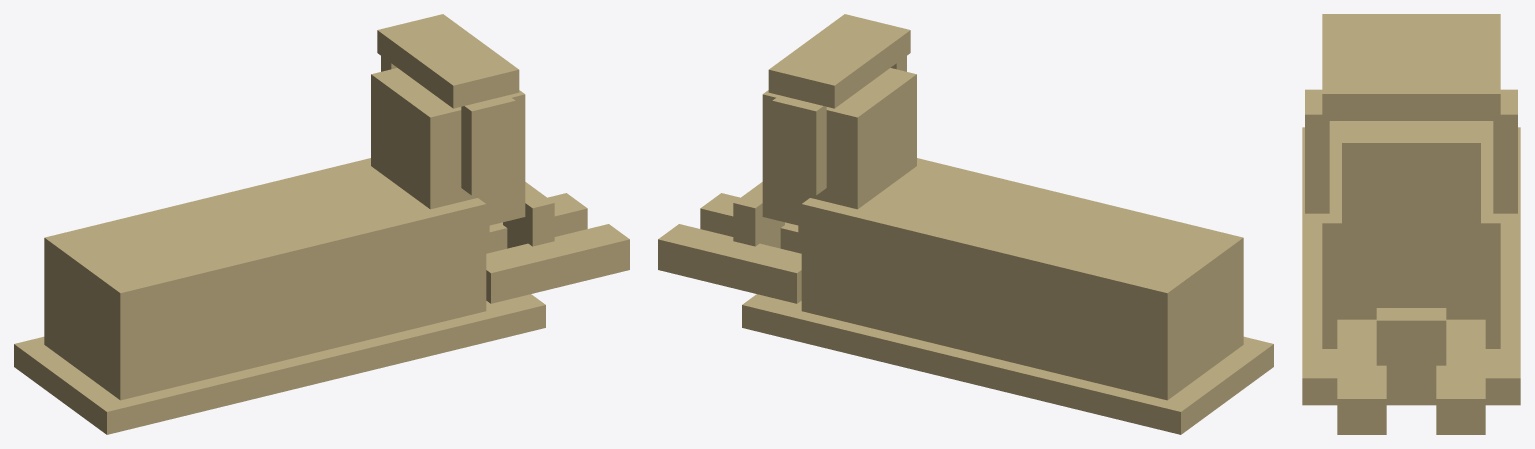
Rendered from sphinx.glb.
3 renders of one model, left to right at view 1: azimuth 30°, elevation 25°; view 2: azimuth 150°, elevation 25°; view 3: azimuth 270°, elevation 25°, orthographic. The views are drawn at different scales.
Visible parts, largest first — view 1: world; view 2: world; view 3: world.
Part boxes in pixels (x1,y1,x2,y2): world: (14, 14, 629, 434); world: (658, 14, 1273, 434); world: (1302, 14, 1520, 434).
Size of the model in its own units: 1.47 by 0.67 by 0.44.
